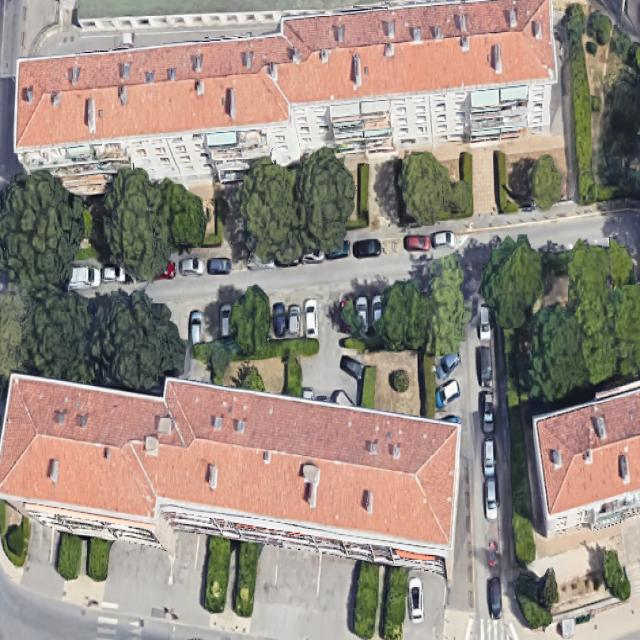immeuble: (0, 0, 571, 217), (0, 365, 465, 574), (535, 382, 639, 535)
